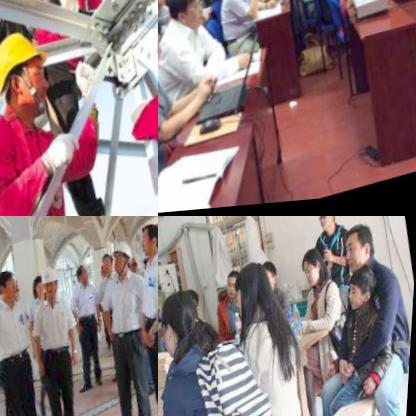head: (158, 287, 206, 361), (230, 262, 279, 332), (337, 224, 382, 283), (343, 270, 381, 319), (165, 0, 210, 35), (253, 261, 287, 307), (178, 285, 209, 331), (297, 249, 328, 294), (222, 272, 246, 307), (158, 9, 169, 77), (312, 216, 339, 241)
helmet: (0, 18, 63, 127), (109, 242, 142, 284), (40, 267, 70, 308), (100, 251, 122, 282), (0, 286, 4, 309)
